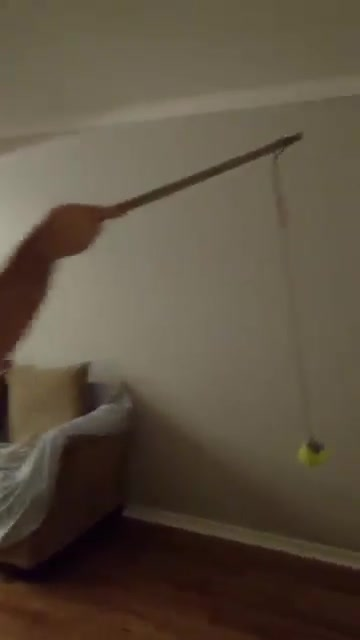tennis_ball: (297, 438, 328, 471)
